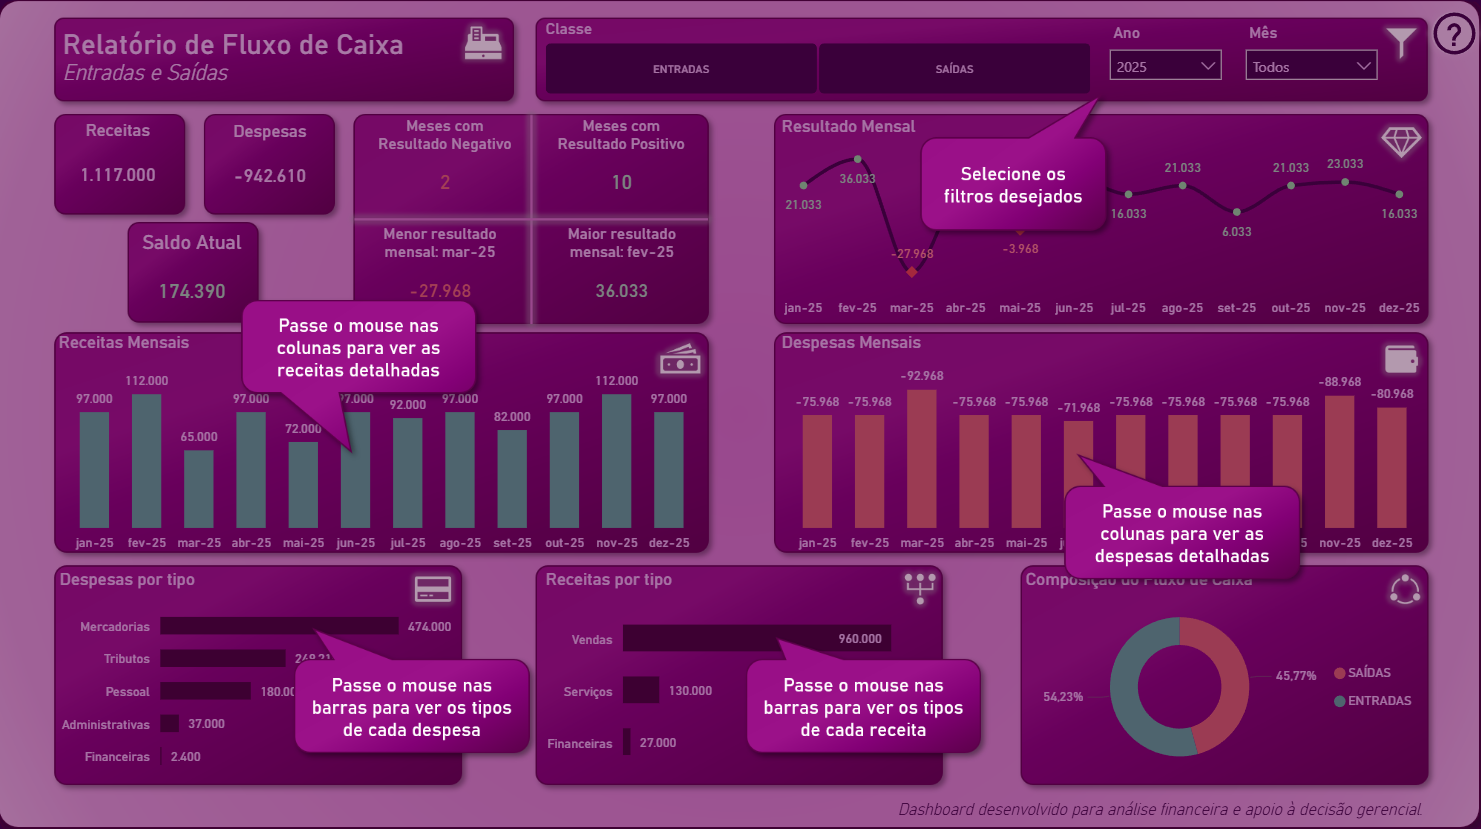

The page's visual inventory and layout, read from the dashboard file:
{"tool":"powerbi","page":{"name":"Fluxo de Caixa","canvas":[1280,720],"ordinal":0},"visuals":[{"type":"slicer","fields":{"Values":["Calendario.Ano"]},"box":[944,17.8,116.4,68.4],"z":0},{"type":"donutChart","title":"Composição do Fluxo de Caixa","fields":{"Y":["DadosFluxo.Valores1"],"Category":["BaseFluxo.CLASSE"]},"box":[877.3,490.7,349.3,184],"z":1000},{"type":"slicer","fields":{"Values":["Calendario.Nome do Mês"]},"box":[1060.4,17.8,133.3,68.4],"z":2000},{"type":"barChart","title":"Receitas por tipo","fields":{"Category":["BaseFluxo.TIPO"],"Y":["DadosFluxo.Valores"]},"box":[466.7,490.7,345.8,184],"z":3000},{"type":"columnChart","title":"Receitas Mensais","fields":{"Category":["Calendario.MêsAno"],"Y":["DadosFluxo.Valores"]},"box":[49.7,288,563.6,192.9],"z":4000},{"type":"barChart","title":"Despesas por tipo","fields":{"Category":["BaseFluxo.TIPO"],"Y":["DadosFluxo.Valores"]},"box":[50.7,490.7,346.7,184],"z":5000},{"type":"columnChart","title":"Despesas Mensais","fields":{"Y":["DadosFluxo.Valores"],"Category":["Calendario.MêsAno"]},"box":[668.4,288,563.6,192.9],"z":6000},{"type":"card","title":"Saldo Atual","fields":{"Values":["DadosFluxo.Valores Ajustados"]},"box":[112.9,199.1,111.1,87.1],"z":7000},{"type":"card","title":"Receitas","fields":{"Values":["DadosFluxo.Valores Ajustados"]},"box":[50.7,105.8,109.3,78.2],"z":8000},{"type":"card","title":"Despesas","fields":{"Values":["DadosFluxo.Valores Ajustados"]},"box":[179.6,106.7,111.1,78.2],"z":9000},{"type":"textbox","box":[53.3,21.3,362.7,64.9],"z":10000},{"type":"advancedSlicerVisual","fields":{"Values":["BaseFluxo.CLASSE"]},"box":[466.7,19.6,477.3,68.4],"z":11000},{"type":"lineChart","title":"Resultado Mensal","fields":{"Category":["Calendario.MêsAno"],"Y":["DadosFluxo.Valores Ajustados","DadosFluxo.Resultados negativos"]},"box":[668.4,103.1,558.2,176.9],"z":12000},{"type":"textbox","box":[768,681.8,468.4,30.2],"z":13000},{"type":"card","fields":{"Values":["DadosFluxo.Menor Resultado Mensal"]},"box":[308.4,195.6,145.8,84.4],"z":14000},{"type":"card","fields":{"Values":["DadosFluxo.Maior Resultado Mensal"]},"box":[466.7,195.6,140.4,84.4],"z":15000},{"type":"card","title":"Meses com Resultado Negativo","fields":{"Values":["DadosFluxo.Meses com Resultados Negativos"]},"box":[315.6,103.1,138.7,81.8],"z":16000},{"type":"card","title":"Meses com Resultado Positivo","fields":{"Values":["DadosFluxo.Meses com Resultados Positivos"]},"box":[469.3,103.1,134.2,81.8],"z":17000},{"type":"actionButton","box":[1225.8,8,54.2,47.1],"z":18000}]}

Visuals, with their boxes in screenshot pixels (x1, y1, x2, y2), scaled from the page's 1280x720 canvas onto the 1481x829 screenshot:
slicer - Calendario.Ano: (left=1092, top=20, right=1227, bottom=99)
"Composição do Fluxo de Caixa" donutChart: (left=1015, top=565, right=1419, bottom=777)
slicer - Calendario.Nome do Mês: (left=1227, top=20, right=1381, bottom=99)
"Receitas por tipo" barChart: (left=540, top=565, right=940, bottom=777)
"Receitas Mensais" columnChart: (left=58, top=332, right=710, bottom=554)
"Despesas por tipo" barChart: (left=59, top=565, right=460, bottom=777)
"Despesas Mensais" columnChart: (left=773, top=332, right=1425, bottom=554)
"Saldo Atual" card: (left=131, top=229, right=259, bottom=330)
"Receitas" card: (left=59, top=122, right=185, bottom=212)
"Despesas" card: (left=208, top=123, right=336, bottom=213)
textbox: (left=62, top=25, right=481, bottom=99)
advancedSlicerVisual - BaseFluxo.CLASSE: (left=540, top=23, right=1092, bottom=101)
"Resultado Mensal" lineChart: (left=773, top=119, right=1419, bottom=322)
textbox: (left=889, top=785, right=1431, bottom=820)
card - DadosFluxo.Menor Resultado Mensal: (left=357, top=225, right=526, bottom=322)
card - DadosFluxo.Maior Resultado Mensal: (left=540, top=225, right=702, bottom=322)
"Meses com Resultado Negativo" card: (left=365, top=119, right=526, bottom=213)
"Meses com Resultado Positivo" card: (left=543, top=119, right=698, bottom=213)
actionButton: (left=1418, top=9, right=1480, bottom=63)
